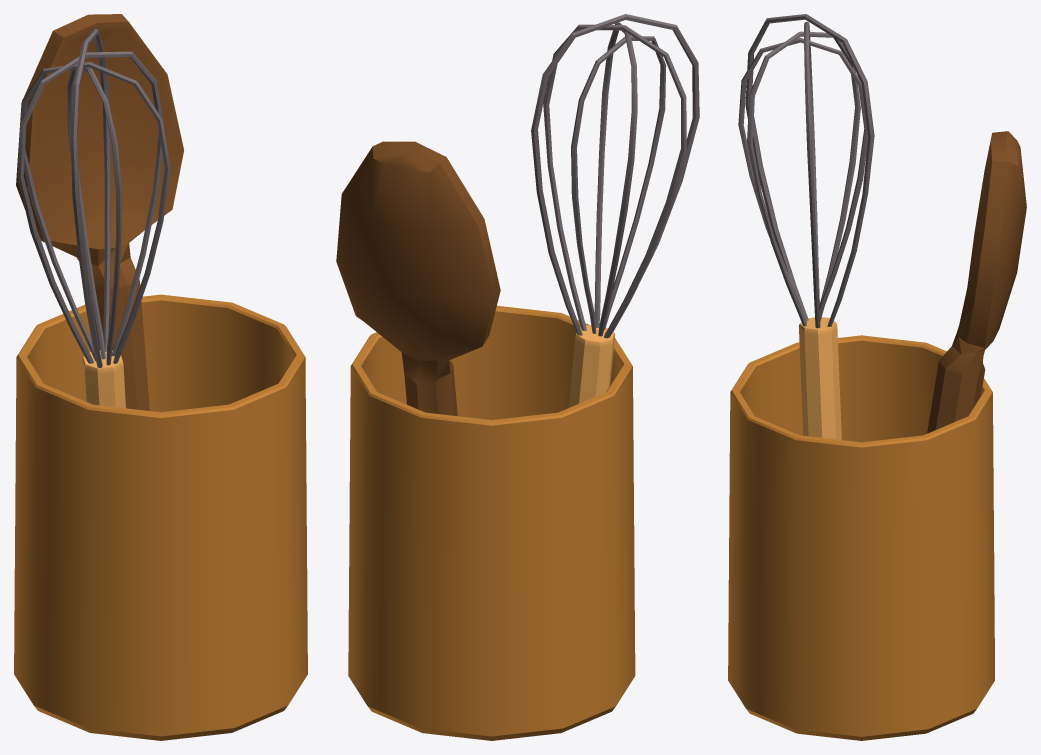
The model's file is utensil cup with tools.fbx.
3 views of the same model, side by side, from view 1: azimuth 30°, elevation 25°; view 2: azimuth 150°, elevation 25°; view 3: azimuth 270°, elevation 25° (orthographic). The views are drawn at different scales.
Parts seen in each view (by area): view 1: tool mug; view 2: tool mug; view 3: tool mug.
Boxes of the visible parts, x1=… form: tool mug: x1=14, y1=14, x2=307, y2=740; tool mug: x1=336, y1=14, x2=699, y2=740; tool mug: x1=728, y1=14, x2=1026, y2=740.
Bounding box in the file's own units: 11.95 × 26.29 × 11.39.
